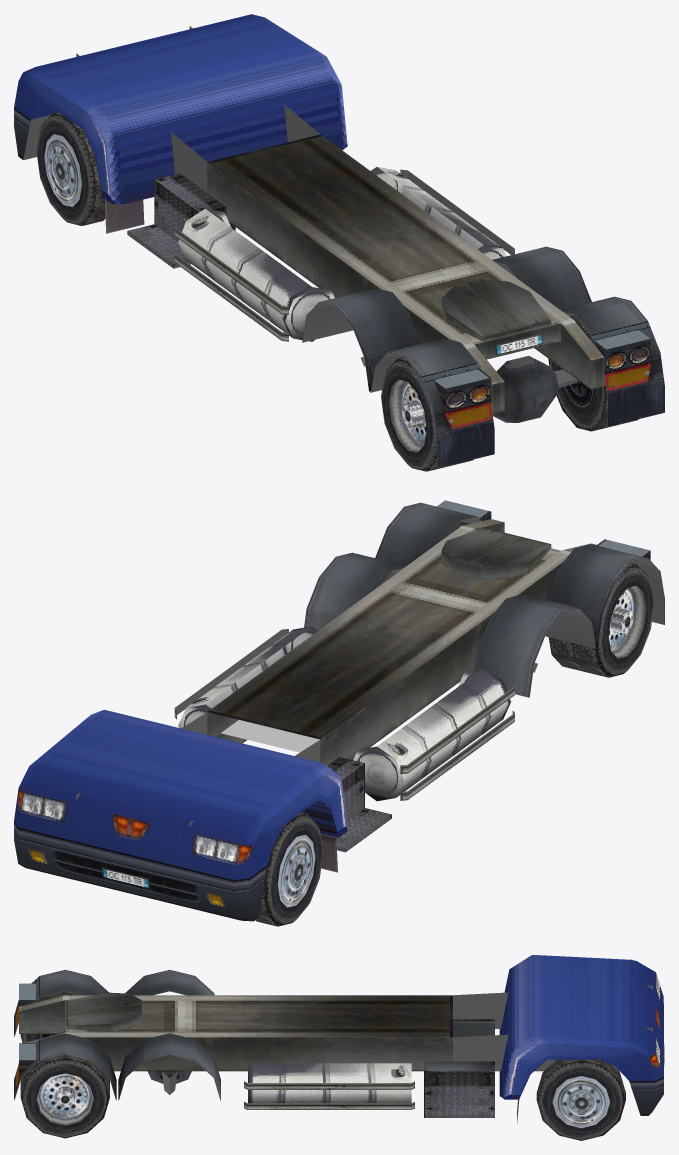
The model's file is othcar-12.glb.
The picture shows the model from 3 angles, top to bottom: view 1: azimuth 30°, elevation 25°; view 2: azimuth 150°, elevation 25°; view 3: azimuth 270°, elevation 25°; orthographic projection. The views are drawn at different scales.
Parts seen in each view (by area): view 1: body, wheel RL, wheel FL, wheel FR; view 2: body, wheel FL, wheel RL; view 3: body, wheel RR, wheel FR, wheel FL.
Part boxes in pixels (x1,y1,x2,y2): body: (14,14,664,467); wheel RL: (36,112,105,225); wheel FL: (381,357,473,471); wheel FR: (548,315,638,431); body: (14,500,664,921); wheel FL: (548,563,654,677); wheel RL: (255,812,323,926); body: (14,955,664,1123); wheel RR: (536,1059,625,1140); wheel FR: (20,1055,109,1138); wheel FL: (20,991,80,1042).
Bounding box in the file's own units: 2.84 × 1.54 × 8.73.
Materials: 10 (8 with a texture image).
